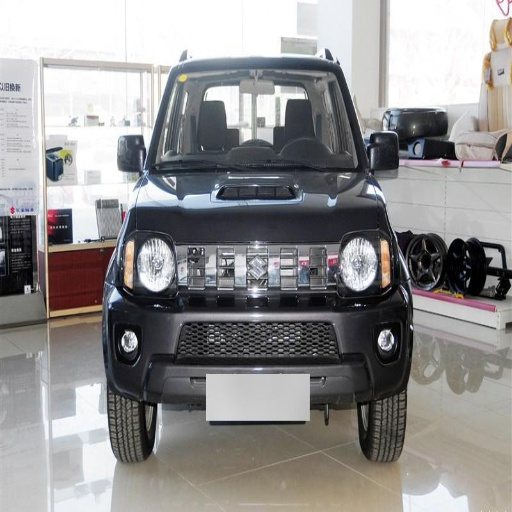front_bumper: (107, 243, 408, 420)
front_right_light: (109, 232, 179, 300)
hood: (137, 171, 382, 243)
left_mirror: (369, 132, 400, 173)
